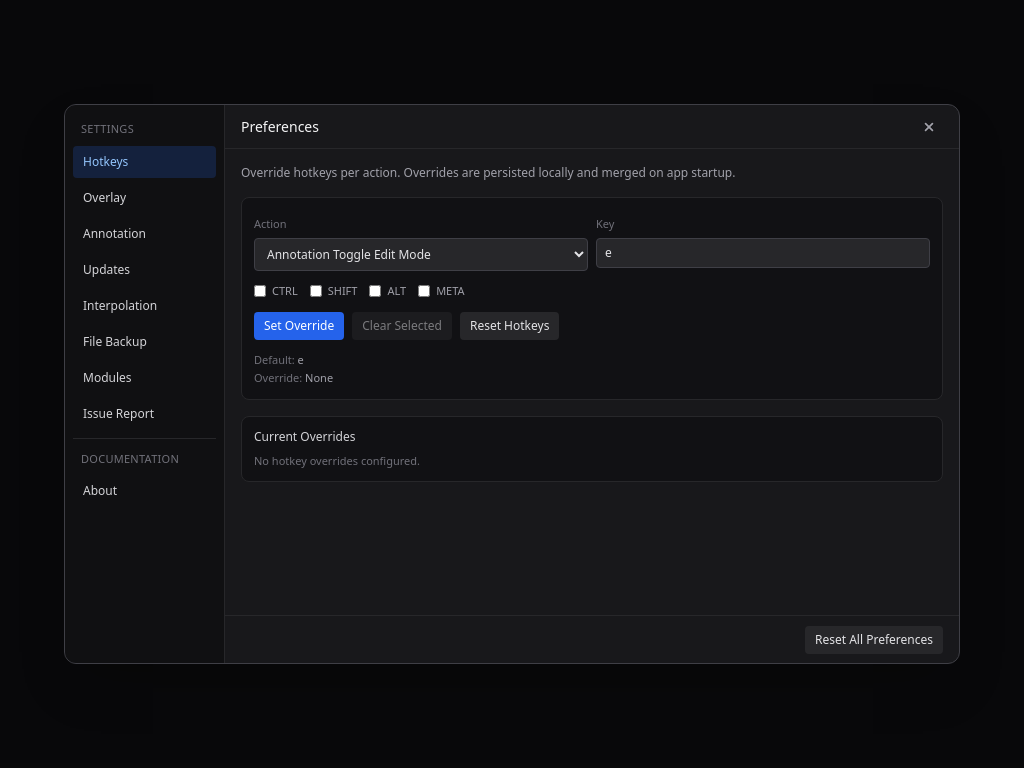
Test: SettingsModal issue report panel › auto-generates a report on tab open and enables copy once loaded
Click the button "Issue Report" at (144, 414), box [73,398,216,430]
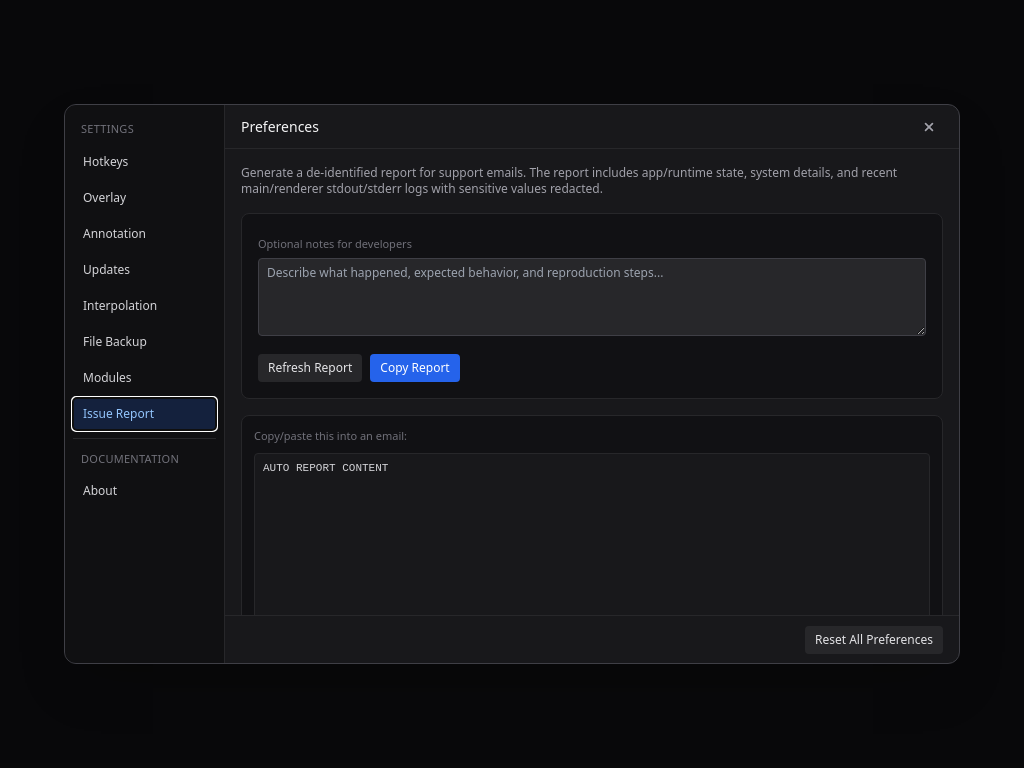
Expected: the button "Copy Report" is enabled, [370,354,460,382]
